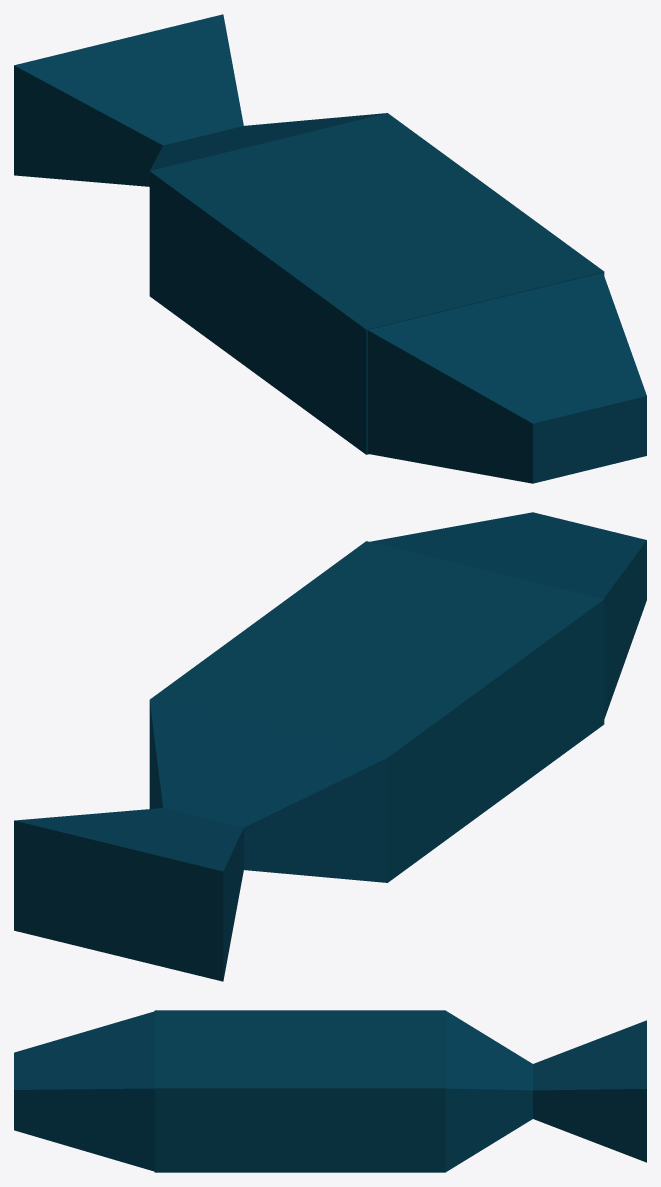
File: fish_low_poly.glb
3 renders of one model, top to bottom at view 1: azimuth 30°, elevation 25°; view 2: azimuth 150°, elevation 25°; view 3: azimuth 270°, elevation 25°, orthographic. The views are drawn at different scales.
Parts seen in each view (by area): view 1: Cube; view 2: Cube; view 3: Cube.
Part boxes in pixels (left/top/right/bottom): Cube: left=14, top=14, right=646, bottom=483; Cube: left=14, top=512, right=646, bottom=981; Cube: left=14, top=1010, right=646, bottom=1172.
Size of the model in its own units: 0.4581 by 0.2302 by 1.57.
